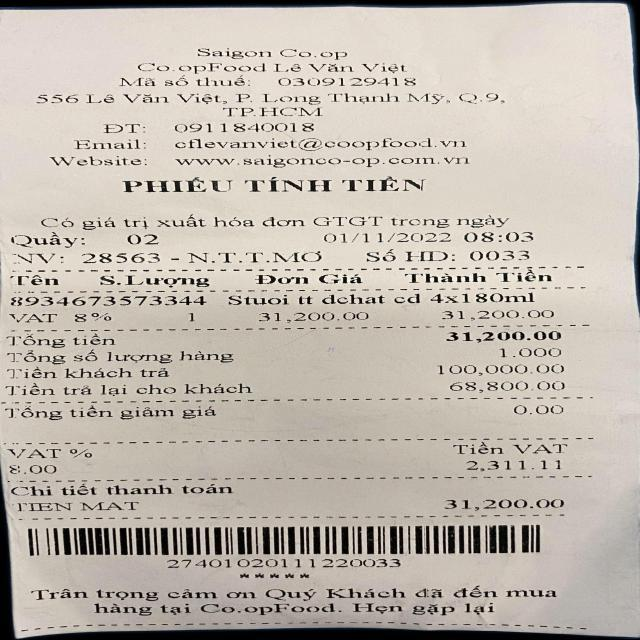Date: (313, 228, 458, 245)
Store_Name: (144, 41, 386, 62)
amount_number: (441, 328, 572, 346)
label_total: (3, 332, 117, 349)
